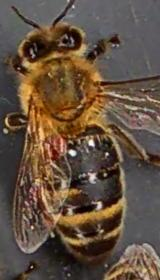varroa_mite: (42, 128, 70, 161)
